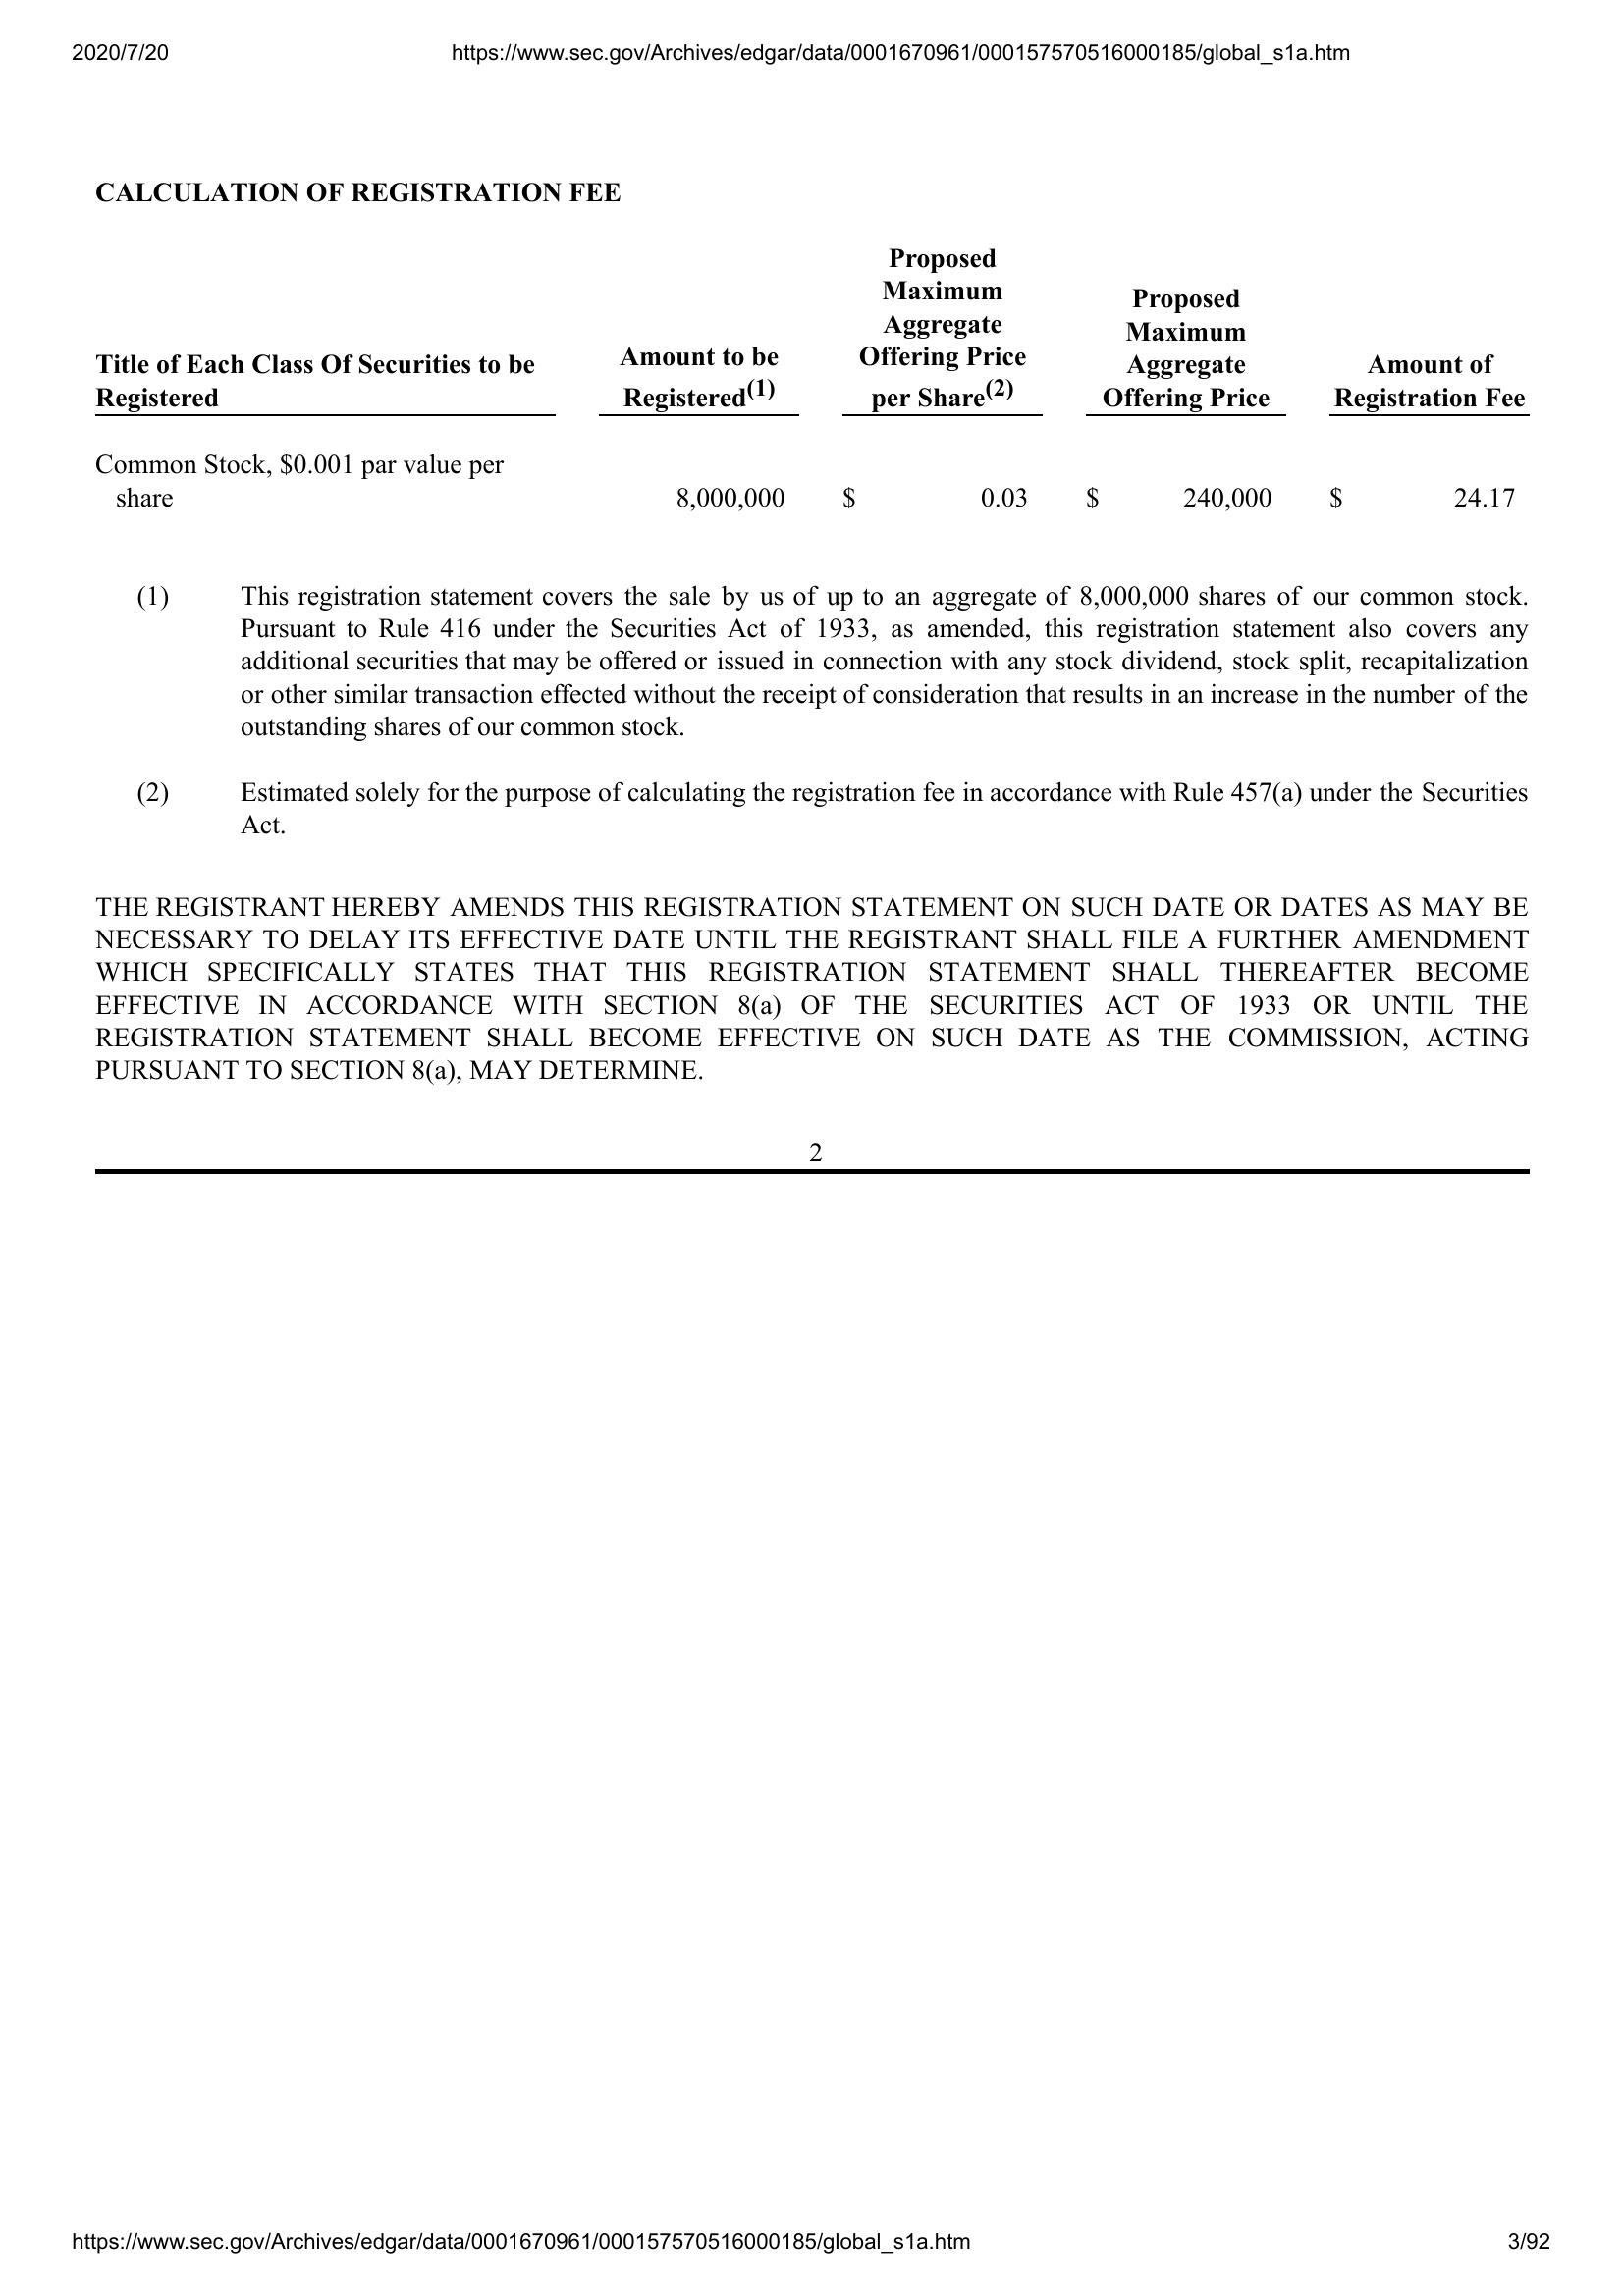table: (79, 239, 1546, 1181)
